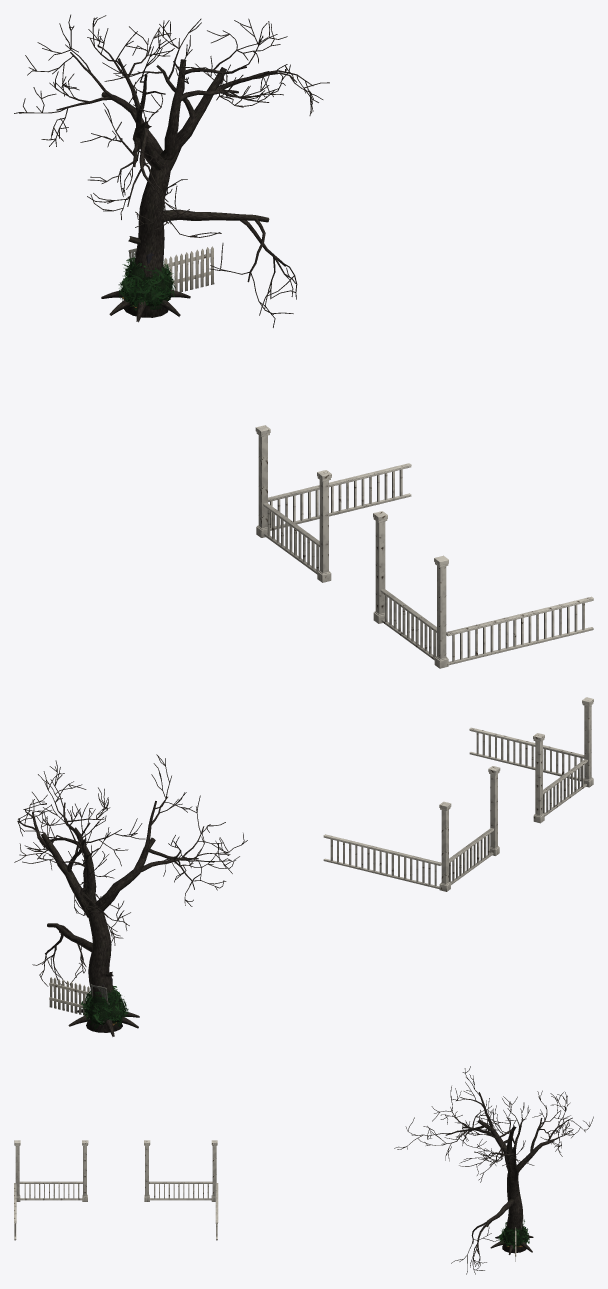
The model's file is props_exterior.glb.
3 views of the same model, one above another, from view 1: azimuth 30°, elevation 25°; view 2: azimuth 150°, elevation 25°; view 3: azimuth 270°, elevation 25° (orthographic). The views are drawn at different scales.
Parts seen in each view (by area): view 1: DeadTree, PorchRailing, Bush_B, FenceSection, Bush_A; view 2: DeadTree, PorchRailing, Bush_B, FenceSection, Bush_A; view 3: DeadTree, PorchRailing, Bush_B.
Part boxes in pixels (x1,y1,x2,y2): DeadTree: [14, 14, 329, 327]; PorchRailing: [255, 425, 593, 668]; Bush_B: [118, 253, 175, 304]; FenceSection: [163, 246, 214, 292]; Bush_A: [119, 268, 174, 310]; DeadTree: [14, 754, 247, 1036]; PorchRailing: [323, 697, 593, 891]; Bush_B: [80, 986, 128, 1025]; FenceSection: [49, 977, 90, 1015]; Bush_A: [83, 996, 128, 1028]; DeadTree: [394, 1066, 593, 1274]; PorchRailing: [14, 1140, 218, 1240]; Bush_B: [499, 1219, 529, 1246].
Size of the model in its own units: 8.71 by 8.91 by 26.18.
Materials: 16 (13 with a texture image).
